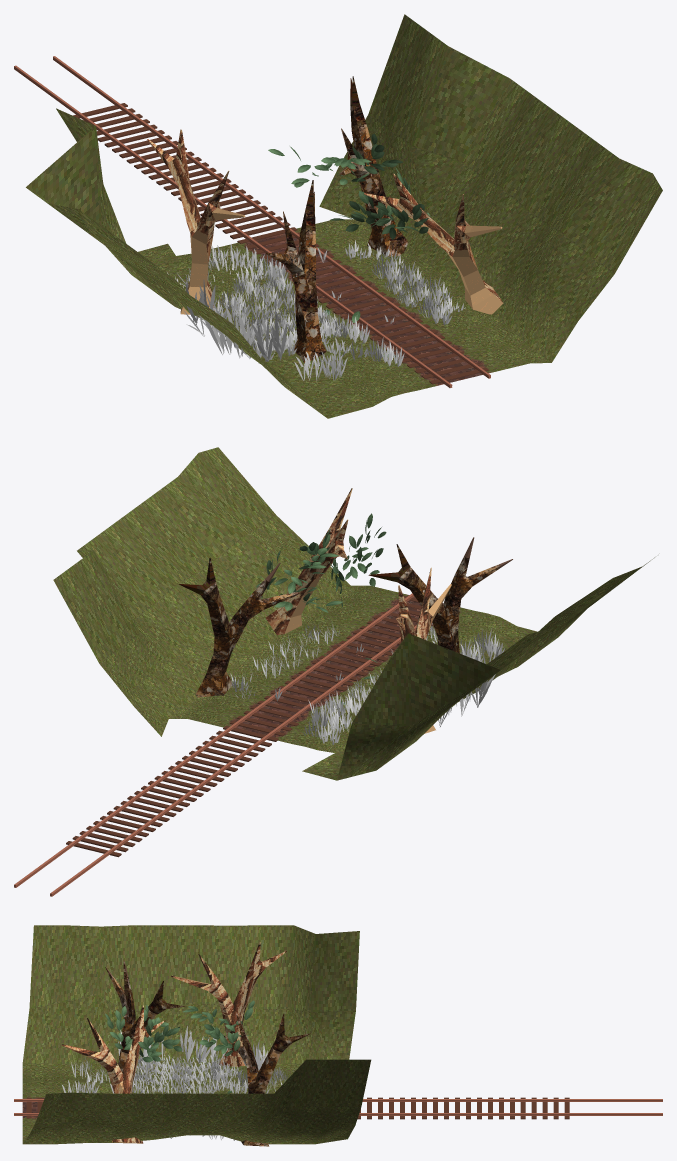
File: Flashback_02_base.glb
3 renders of one model, top to bottom at view 1: azimuth 30°, elevation 25°; view 2: azimuth 150°, elevation 25°; view 3: azimuth 270°, elevation 25°, orthographic. The views are drawn at different scales.
Visible parts, largest first — view 1: Plane, grass, track, railings, branches.003, branches.001, branches.002, branches; view 2: Plane, track, grass, railings, branches, branches.003, branches.001, branches.002; view 3: Plane, grass, branches.002, branches.001, track, railings, branches, branches.003.
Part boxes in pixels (x1=…): Plane: x1=26, y1=14, x2=662, y2=418; grass: x1=167, y1=240, x2=465, y2=381; track: x1=73, y1=103, x2=489, y2=384; railings: x1=14, y1=56, x2=490, y2=387; branches.003: x1=265, y1=180, x2=326, y2=362; branches.001: x1=364, y1=173, x2=503, y2=314; branches.002: x1=147, y1=129, x2=245, y2=314; branches: x1=339, y1=76, x2=408, y2=256; Plane: x1=53, y1=447, x2=654, y2=780; track: x1=66, y1=595, x2=433, y2=857; grass: x1=230, y1=623, x2=504, y2=744; railings: x1=14, y1=593, x2=416, y2=896; branches: x1=178, y1=558, x2=298, y2=697; branches.003: x1=368, y1=537, x2=512, y2=653; branches.001: x1=265, y1=488, x2=352, y2=635; branches.002: x1=396, y1=567, x2=451, y2=733; Plane: x1=22, y1=925, x2=371, y2=1144; grass: x1=62, y1=1026, x2=293, y2=1140; branches.002: x1=171, y1=942, x2=286, y2=1066; branches.001: x1=61, y1=1005, x2=165, y2=1143; track: x1=26, y1=1097, x2=569, y2=1119; railings: x1=14, y1=1099, x2=662, y2=1115; branches: x1=224, y1=1011, x2=310, y2=1146; branches.003: x1=105, y1=959, x2=184, y2=1072.
Bounding box in the file's own units: 25.21 × 9.21 × 39.93.
Materials: 4 (4 with a texture image).
